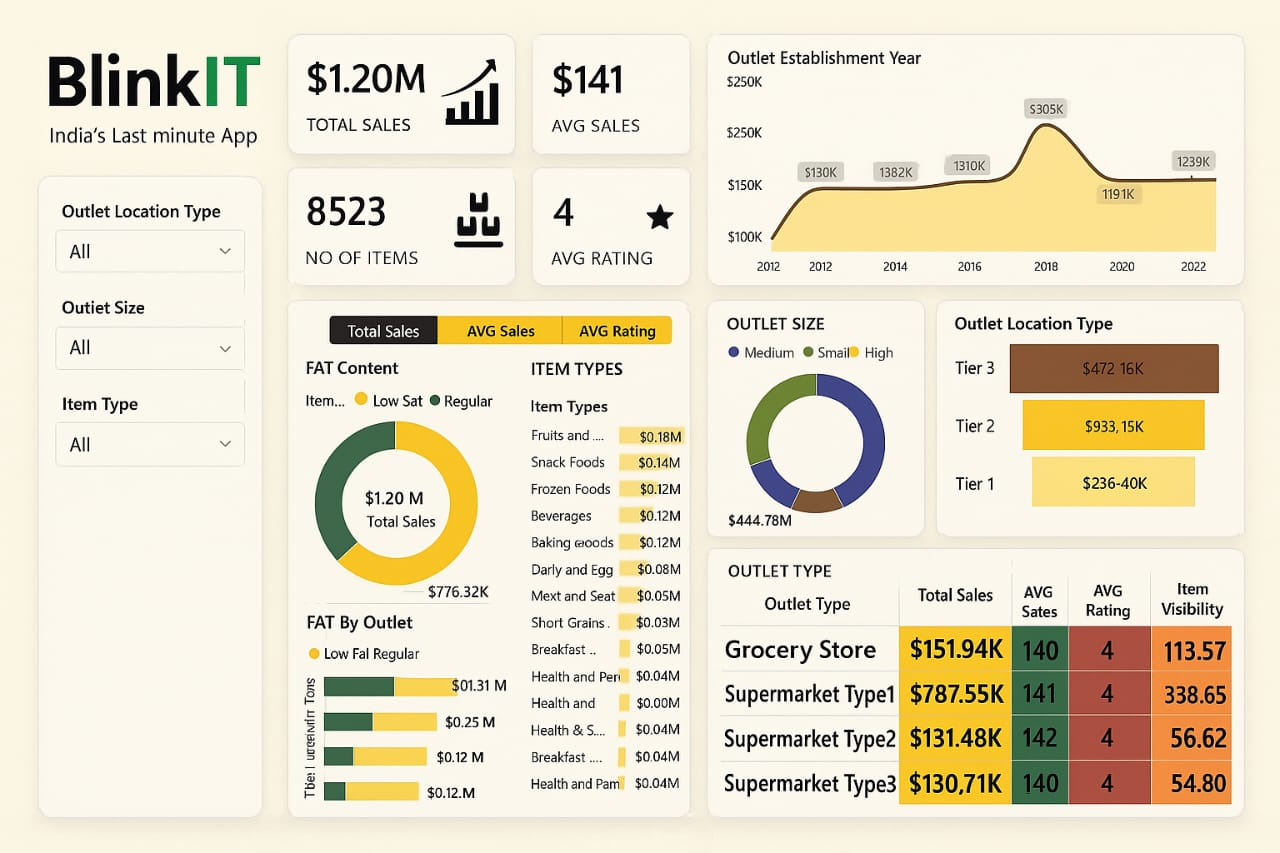

The page's visual inventory and layout, read from the dashboard file:
{"tool":"powerbi","page":{"name":"Page 1","canvas":[1400,800],"ordinal":0},"visuals":[{"type":"shape","box":[7.9,192.1,207.9,571.7],"z":0},{"type":"textbox","box":[429.9,512.6,253.5,147],"z":1000},{"type":"textbox","box":[263,630,206,150],"z":2000},{"type":"textbox","box":[7.3,25.7,207.6,117.6],"z":3000},{"type":"textbox","box":[18.4,99.2,185.6,57],"z":4000},{"type":"cardVisual","fields":{"Data":["BlinkIT Grocery Data.Total Sales","BlinkIT Grocery Data.AVG Sales","BlinkIT Grocery Data.Number Of Items","BlinkIT Grocery Data.AVG Rating"]},"box":[235.2,7.3,569.6,270.1],"z":5000},{"type":"shape","box":[235.2,264.6,553,499.7],"z":6000},{"type":"donutChart","title":"Fat Content","fields":{"Y":["BlinkIT Grocery Data.Total Sales"],"Category":["BlinkIT Grocery Data.Item Fat Content"]},"box":[249.9,317.8,231.5,238.8],"z":7000},{"type":"slicer","fields":{"Values":["Metrics.Metrics"]},"box":[273.8,277.4,465,40],"z":8000},{"type":"cardVisual","fields":{"Data":["BlinkIT Grocery Data.Total Sales"]},"box":[310.5,422.6,108.4,58.8],"z":9000},{"type":"clusteredBarChart","title":"FAT BY Outlet ","fields":{"Y":["BlinkIT Grocery Data.Total Sales"],"Category":["BlinkIT Grocery Data.Outlet Location Type"],"Series":["BlinkIT Grocery Data.Item Fat Content"]},"box":[246.2,556.7,235.2,207.6],"z":10000},{"type":"shape","box":[249.9,545.7,235.2,20.2],"z":11000},{"type":"shape","box":[474,325.2,22,424.4],"z":12000},{"type":"barChart","title":"ITEM TYPES","fields":{"Y":["BlinkIT Grocery Data.Total Sales"],"Category":["BlinkIT Grocery Data.Item Type"]},"box":[485,327,292,437.3],"z":13000},{"type":"shape","box":[789,14.2,611,765.4],"z":14000},{"type":"lineChart","title":"Outlet Establishment Year","fields":{"Y":["BlinkIT Grocery Data.Total Sales"],"Category":["BlinkIT Grocery Data.Outlet Establishment Year"]},"box":[818.9,25.2,581.1,239.4],"z":15000},{"type":"shape","box":[804.7,266.4,580.6,11],"z":16000},{"type":"donutChart","title":"OUTLET SIZE","fields":{"Y":["BlinkIT Grocery Data.Total Sales"],"Category":["BlinkIT Grocery Data.Outlet Size"]},"box":[804.7,281.1,274,220],"z":17000},{"type":"funnel","title":"Outlet Location Type","fields":{"Y":["BlinkIT Grocery Data.Total Sales"],"Category":["BlinkIT Grocery Data.Outlet Location Type"]},"box":[1065.6,271.9,314.2,229.7],"z":18000},{"type":"shape","box":[1054.6,281.1,11,220.5],"z":19000},{"type":"shape","box":[804.7,494.2,580.6,20.2],"z":20000},{"type":"pivotTable","title":"OUTLET TYPE","fields":{"Rows":["BlinkIT Grocery Data.Outlet Type"],"Values":["BlinkIT Grocery Data.Total Sales","BlinkIT Grocery Data.AVG Sales","BlinkIT Grocery Data.AVG Rating","Sum(BlinkIT Grocery Data.Item Visibility)"]},"box":[804.7,525.5,582.4,255.4],"z":21000},{"type":"slicer","fields":{"Values":["BlinkIT Grocery Data.Outlet Location Type"]},"box":[7.9,217.3,207.9,121.3],"z":22000},{"type":"slicer","fields":{"Values":["BlinkIT Grocery Data.Outlet Size"]},"box":[7.9,338.6,207.9,121.3],"z":23000},{"type":"slicer","fields":{"Values":["BlinkIT Grocery Data.Item Type"]},"box":[7.9,459.8,207.9,121.3],"z":24000}]}

Visuals, with their boxes on the page's 1400x800 design canvas (x1, y1, x2, y2). These are canvas units, not pixel positions in the 1280x853 screenshot, which may show the page scaled, cropped or inside an application window:
shape: left=8, top=192, right=216, bottom=764
textbox: left=430, top=513, right=683, bottom=660
textbox: left=263, top=630, right=469, bottom=780
textbox: left=7, top=26, right=215, bottom=143
textbox: left=18, top=99, right=204, bottom=156
cardVisual - BlinkIT Grocery Data.Total Sales x BlinkIT Grocery Data.AVG Sales: left=235, top=7, right=805, bottom=277
shape: left=235, top=265, right=788, bottom=764
"Fat Content" donutChart: left=250, top=318, right=481, bottom=557
slicer - Metrics.Metrics: left=274, top=277, right=739, bottom=317
cardVisual - BlinkIT Grocery Data.Total Sales: left=310, top=423, right=419, bottom=481
"FAT BY Outlet " clusteredBarChart: left=246, top=557, right=481, bottom=764
shape: left=250, top=546, right=485, bottom=566
shape: left=474, top=325, right=496, bottom=750
"ITEM TYPES" barChart: left=485, top=327, right=777, bottom=764
shape: left=789, top=14, right=1400, bottom=780
"Outlet Establishment Year" lineChart: left=819, top=25, right=1400, bottom=265
shape: left=805, top=266, right=1385, bottom=277
"OUTLET SIZE" donutChart: left=805, top=281, right=1079, bottom=501
"Outlet Location Type" funnel: left=1066, top=272, right=1380, bottom=502
shape: left=1055, top=281, right=1066, bottom=502
shape: left=805, top=494, right=1385, bottom=514
"OUTLET TYPE" pivotTable: left=805, top=526, right=1387, bottom=781
slicer - BlinkIT Grocery Data.Outlet Location Type: left=8, top=217, right=216, bottom=339
slicer - BlinkIT Grocery Data.Outlet Size: left=8, top=339, right=216, bottom=460
slicer - BlinkIT Grocery Data.Item Type: left=8, top=460, right=216, bottom=581
